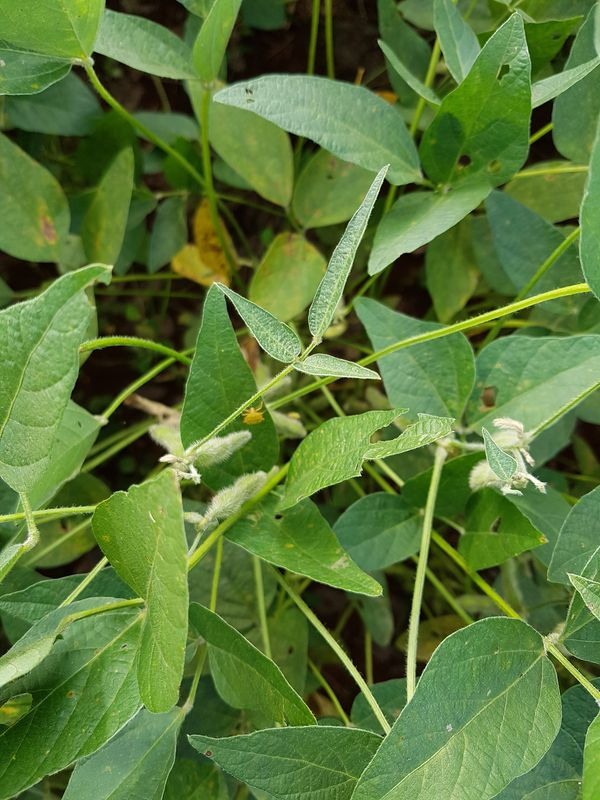Euschistus_heros_ninfa: (235, 397, 270, 431)
